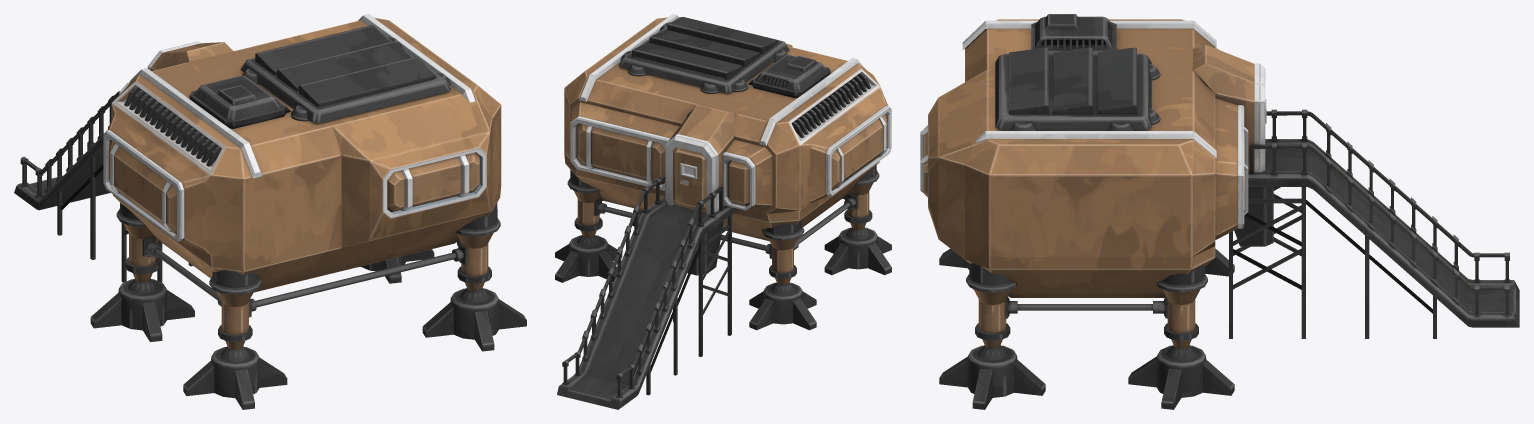
File: Bunker.dae
The picture shows the model from 3 angles, left to right: view 1: azimuth 30°, elevation 25°; view 2: azimuth 150°, elevation 25°; view 3: azimuth 270°, elevation 25°; orthographic projection. The views are drawn at different scales.
Parts seen in each view (by area): view 1: BunkerA01.001; view 2: BunkerA01.001, BunkerA01_Door; view 3: BunkerA01.001.
Part boxes in pixels (x1,y1,x2,y2): BunkerA01.001: (14, 14, 526, 409); BunkerA01.001: (555, 14, 891, 409); BunkerA01_Door: (673, 147, 706, 212); BunkerA01.001: (920, 14, 1519, 409).
Size of the model in its own units: 9.03 by 13.63 by 7.09.
